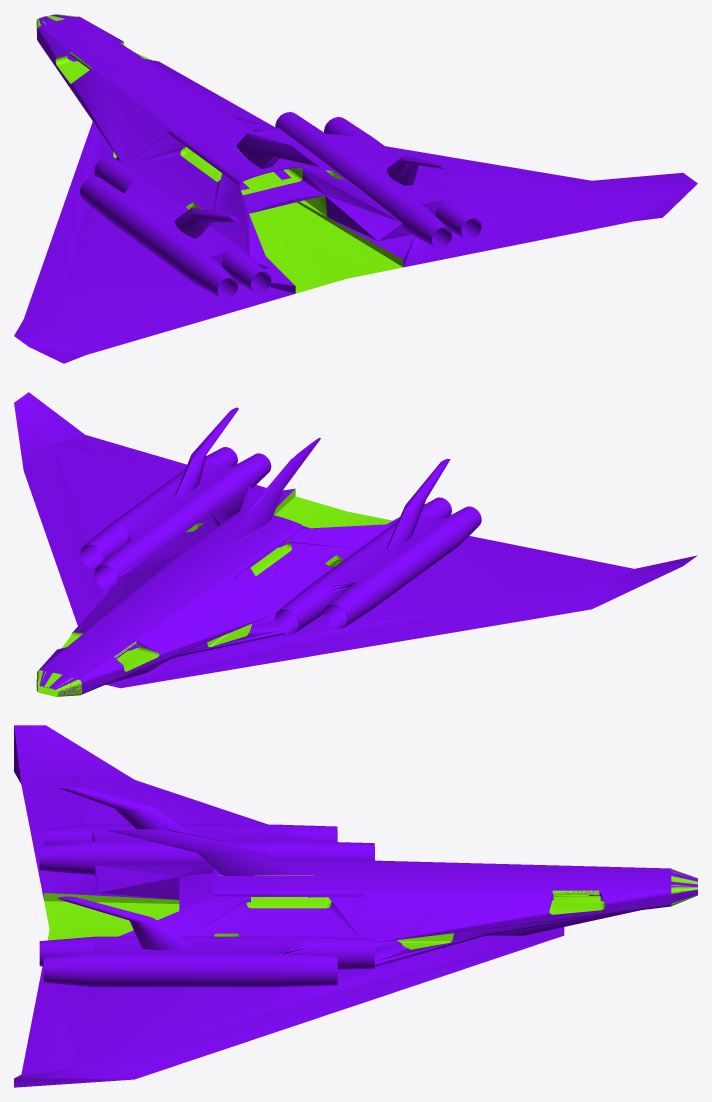
The model's file is Sky Monster.fbx.
The picture shows the model from 3 angles, top to bottom: view 1: azimuth 30°, elevation 25°; view 2: azimuth 150°, elevation 25°; view 3: azimuth 270°, elevation 25°; orthographic projection. The views are drawn at different scales.
Parts seen in each view (by area): view 1: mesh1; view 2: mesh1; view 3: mesh1.
Part boxes in pixels (box(x1,y1,x2,y2)): mesh1: box(14, 14, 697, 363); mesh1: box(14, 392, 697, 696); mesh1: box(14, 725, 697, 1087).
Size of the model in its own units: 100 by 15.47 by 81.83.
